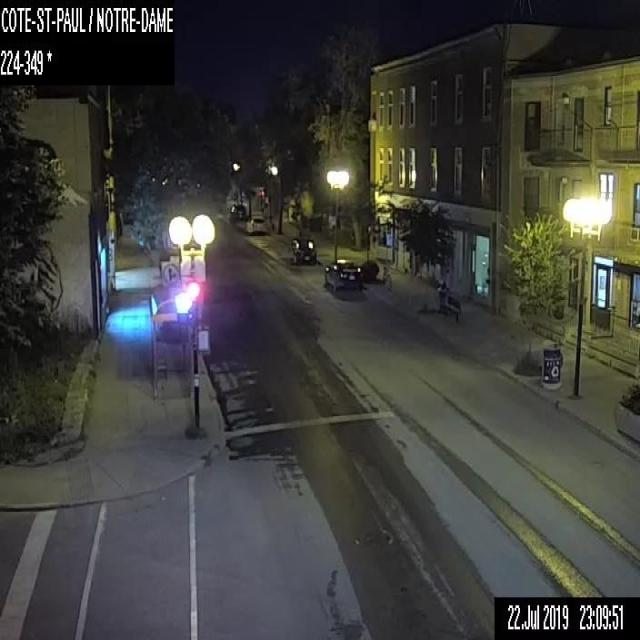pedestrian: (436, 268, 448, 311)
vehicle: (322, 258, 363, 294), (288, 235, 317, 265), (244, 214, 267, 235), (228, 202, 246, 219)
